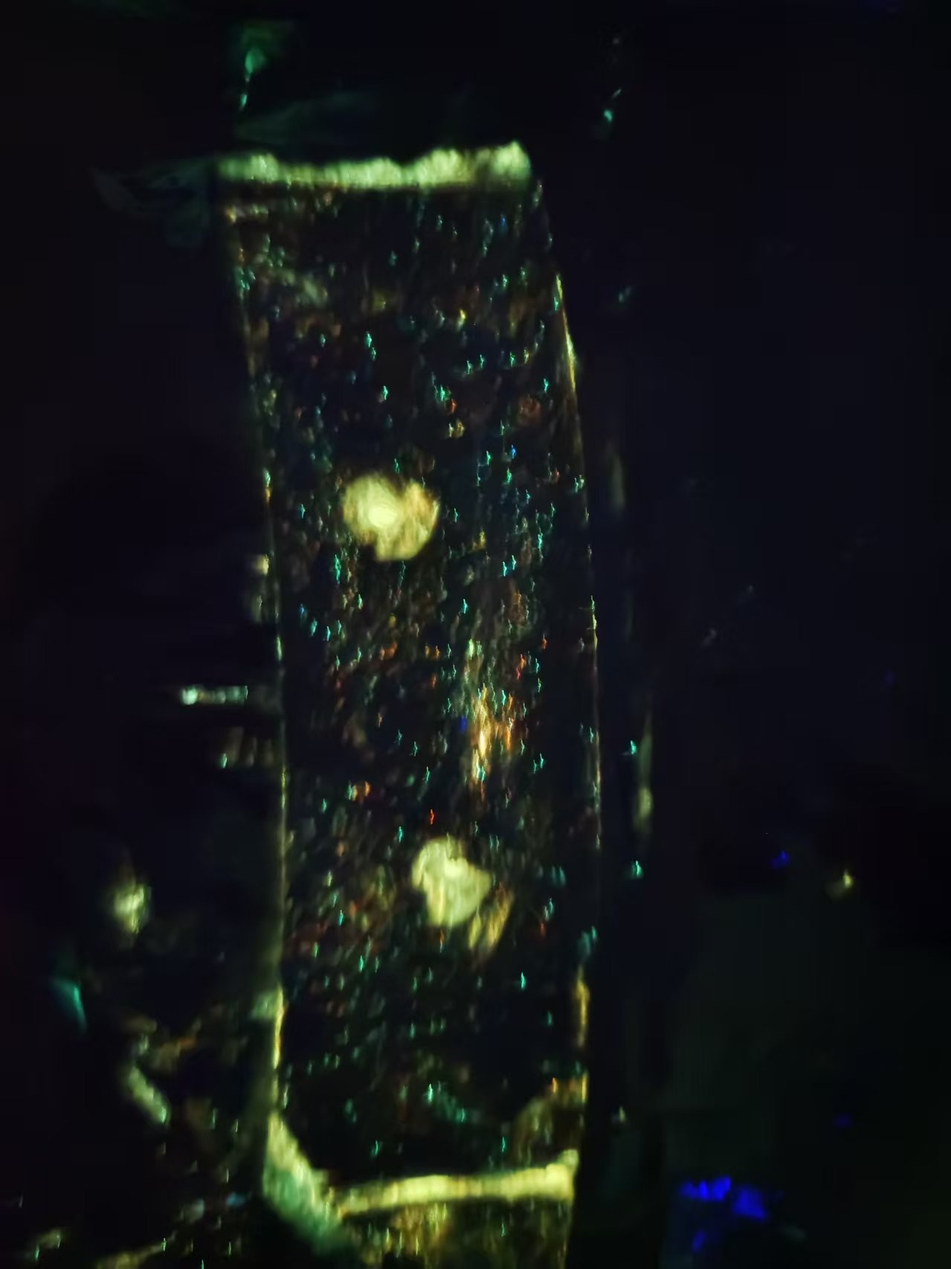Crater: (365, 803, 538, 976), (309, 458, 473, 591)
